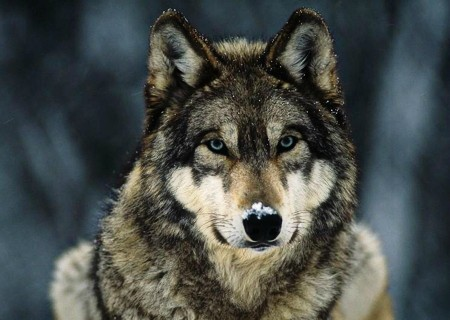Lobo: (53, 9, 421, 300)
